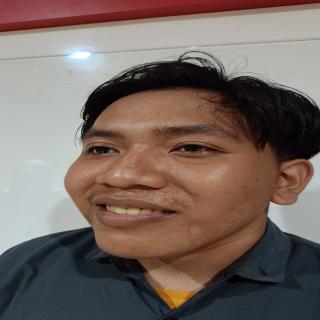Senang: (55, 81, 297, 265)
